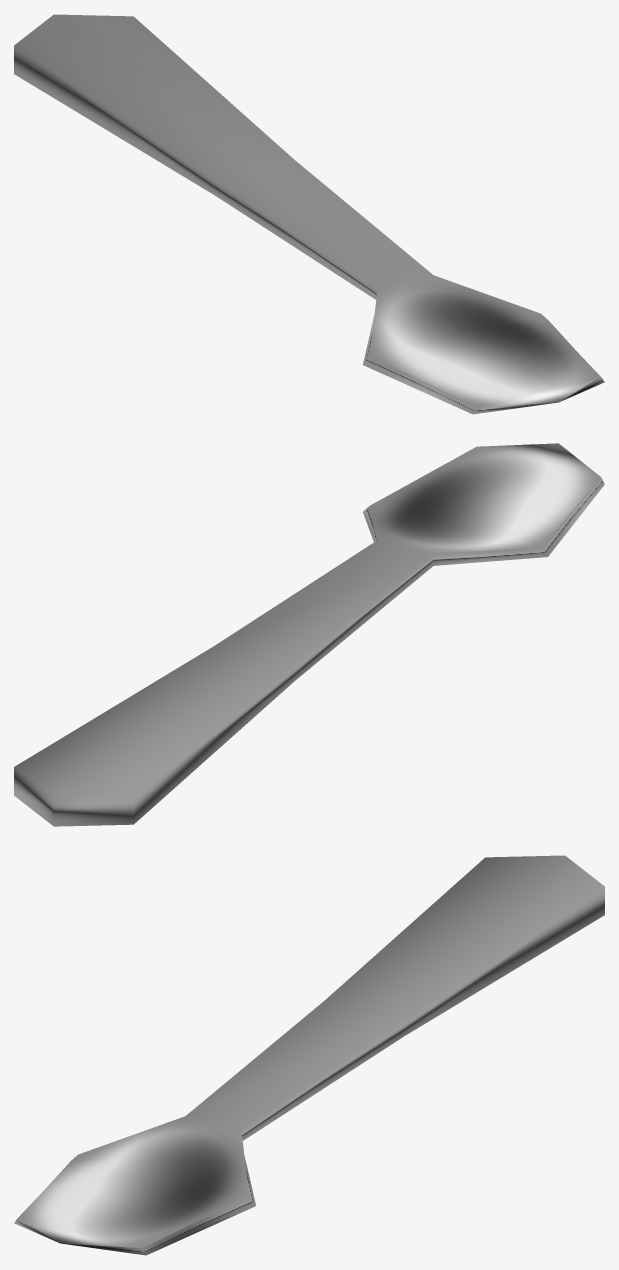
Rendered from spoon.fbx.
3 views of the same model, one above another, from view 1: azimuth 30°, elevation 25°; view 2: azimuth 150°, elevation 25°; view 3: azimuth 330°, elevation 25° (orthographic).
Parts seen in each view (by area): view 1: spoon; view 2: spoon; view 3: spoon.
Boxes of the visible parts, x1,y1,x2,y2 form: spoon: (14, 14, 604, 414); spoon: (14, 443, 604, 826); spoon: (14, 855, 604, 1255).
Bounding box in the file's own units: 0.1342 × 0.0236 × 0.6335.
Materials: 1 (1 with a texture image).
